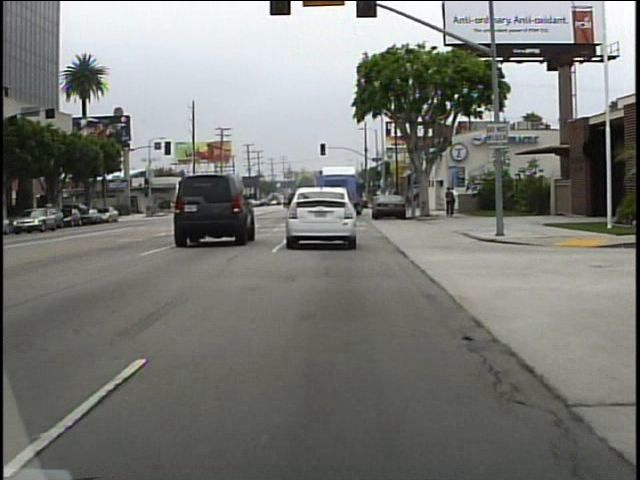person: (443, 186, 456, 220), (451, 185, 461, 216)
